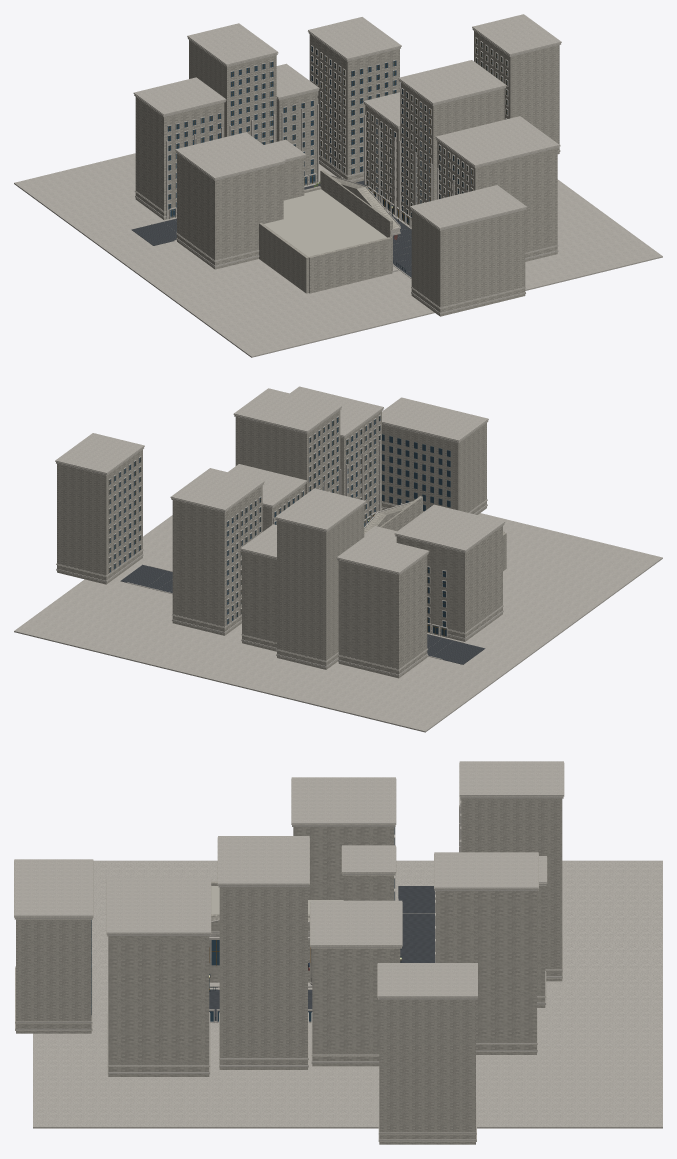
The model's file is wall-street.glb.
3 renders of one model, top to bottom at view 1: azimuth 30°, elevation 25°; view 2: azimuth 150°, elevation 25°; view 3: azimuth 270°, elevation 25°, orthographic. The views are drawn at different scales.
Visible parts, largest first — view 1: MODERN_STATIC__Limestone | lit trim, MODERN_STATIC__Limestone | warm cut stone, WORLD_GROUND__Paving | warm limestone, MODERN_STATIC__Limestone | weathered base, MODERN_STATIC__Windows | smoky blue recess, INTERIOR_STATIC__INTERIOR | pale warm plaster, MODERN_STATIC__Accents | muted brass, WORLD_GROUND__Street | blue grey granite; view 2: WORLD_GROUND__Paving | warm limestone, MODERN_STATIC__Limestone | weathered base, MODERN_STATIC__Limestone | warm cut stone, MODERN_STATIC__Limestone | lit trim, MODERN_STATIC__Windows | smoky blue recess, WORLD_GROUND__Street | blue grey granite, MODERN_STATIC__Accents | muted brass; view 3: WORLD_GROUND__Paving | warm limestone, MODERN_STATIC__Limestone | weathered base, MODERN_STATIC__Limestone | lit trim, MODERN_STATIC__Limestone | warm cut stone, WORLD_GROUND__Street | blue grey granite.
Part boxes in pixels (x1,y1,x2,y2): MODERN_STATIC__Limestone | lit trim: [134, 14, 561, 314]; MODERN_STATIC__Limestone | warm cut stone: [135, 34, 557, 293]; WORLD_GROUND__Paving | warm limestone: [14, 89, 662, 357]; MODERN_STATIC__Limestone | weathered base: [133, 27, 561, 316]; MODERN_STATIC__Windows | smoky blue recess: [168, 38, 507, 224]; INTERIOR_STATIC__INTERIOR | pale warm plaster: [264, 189, 386, 256]; MODERN_STATIC__Accents | muted brass: [168, 39, 506, 224]; WORLD_GROUND__Street | blue grey granite: [131, 180, 411, 277]; WORLD_GROUND__Paving | warm limestone: [14, 513, 662, 732]; MODERN_STATIC__Limestone | weathered base: [55, 407, 506, 676]; MODERN_STATIC__Limestone | warm cut stone: [172, 411, 504, 678]; MODERN_STATIC__Limestone | lit trim: [55, 386, 504, 675]; MODERN_STATIC__Windows | smoky blue recess: [109, 416, 450, 636]; WORLD_GROUND__Street | blue grey granite: [120, 564, 485, 664]; MODERN_STATIC__Accents | muted brass: [109, 416, 446, 636]; WORLD_GROUND__Paving | warm limestone: [33, 860, 662, 1128]; MODERN_STATIC__Limestone | weathered base: [14, 763, 564, 1144]; MODERN_STATIC__Limestone | lit trim: [14, 761, 563, 1141]; MODERN_STATIC__Limestone | warm cut stone: [108, 827, 545, 1076]; WORLD_GROUND__Street | blue grey granite: [209, 886, 434, 1021].
Bounding box in the file's own units: 160 × 49.57 × 154.
39 materials, 14 textured.
